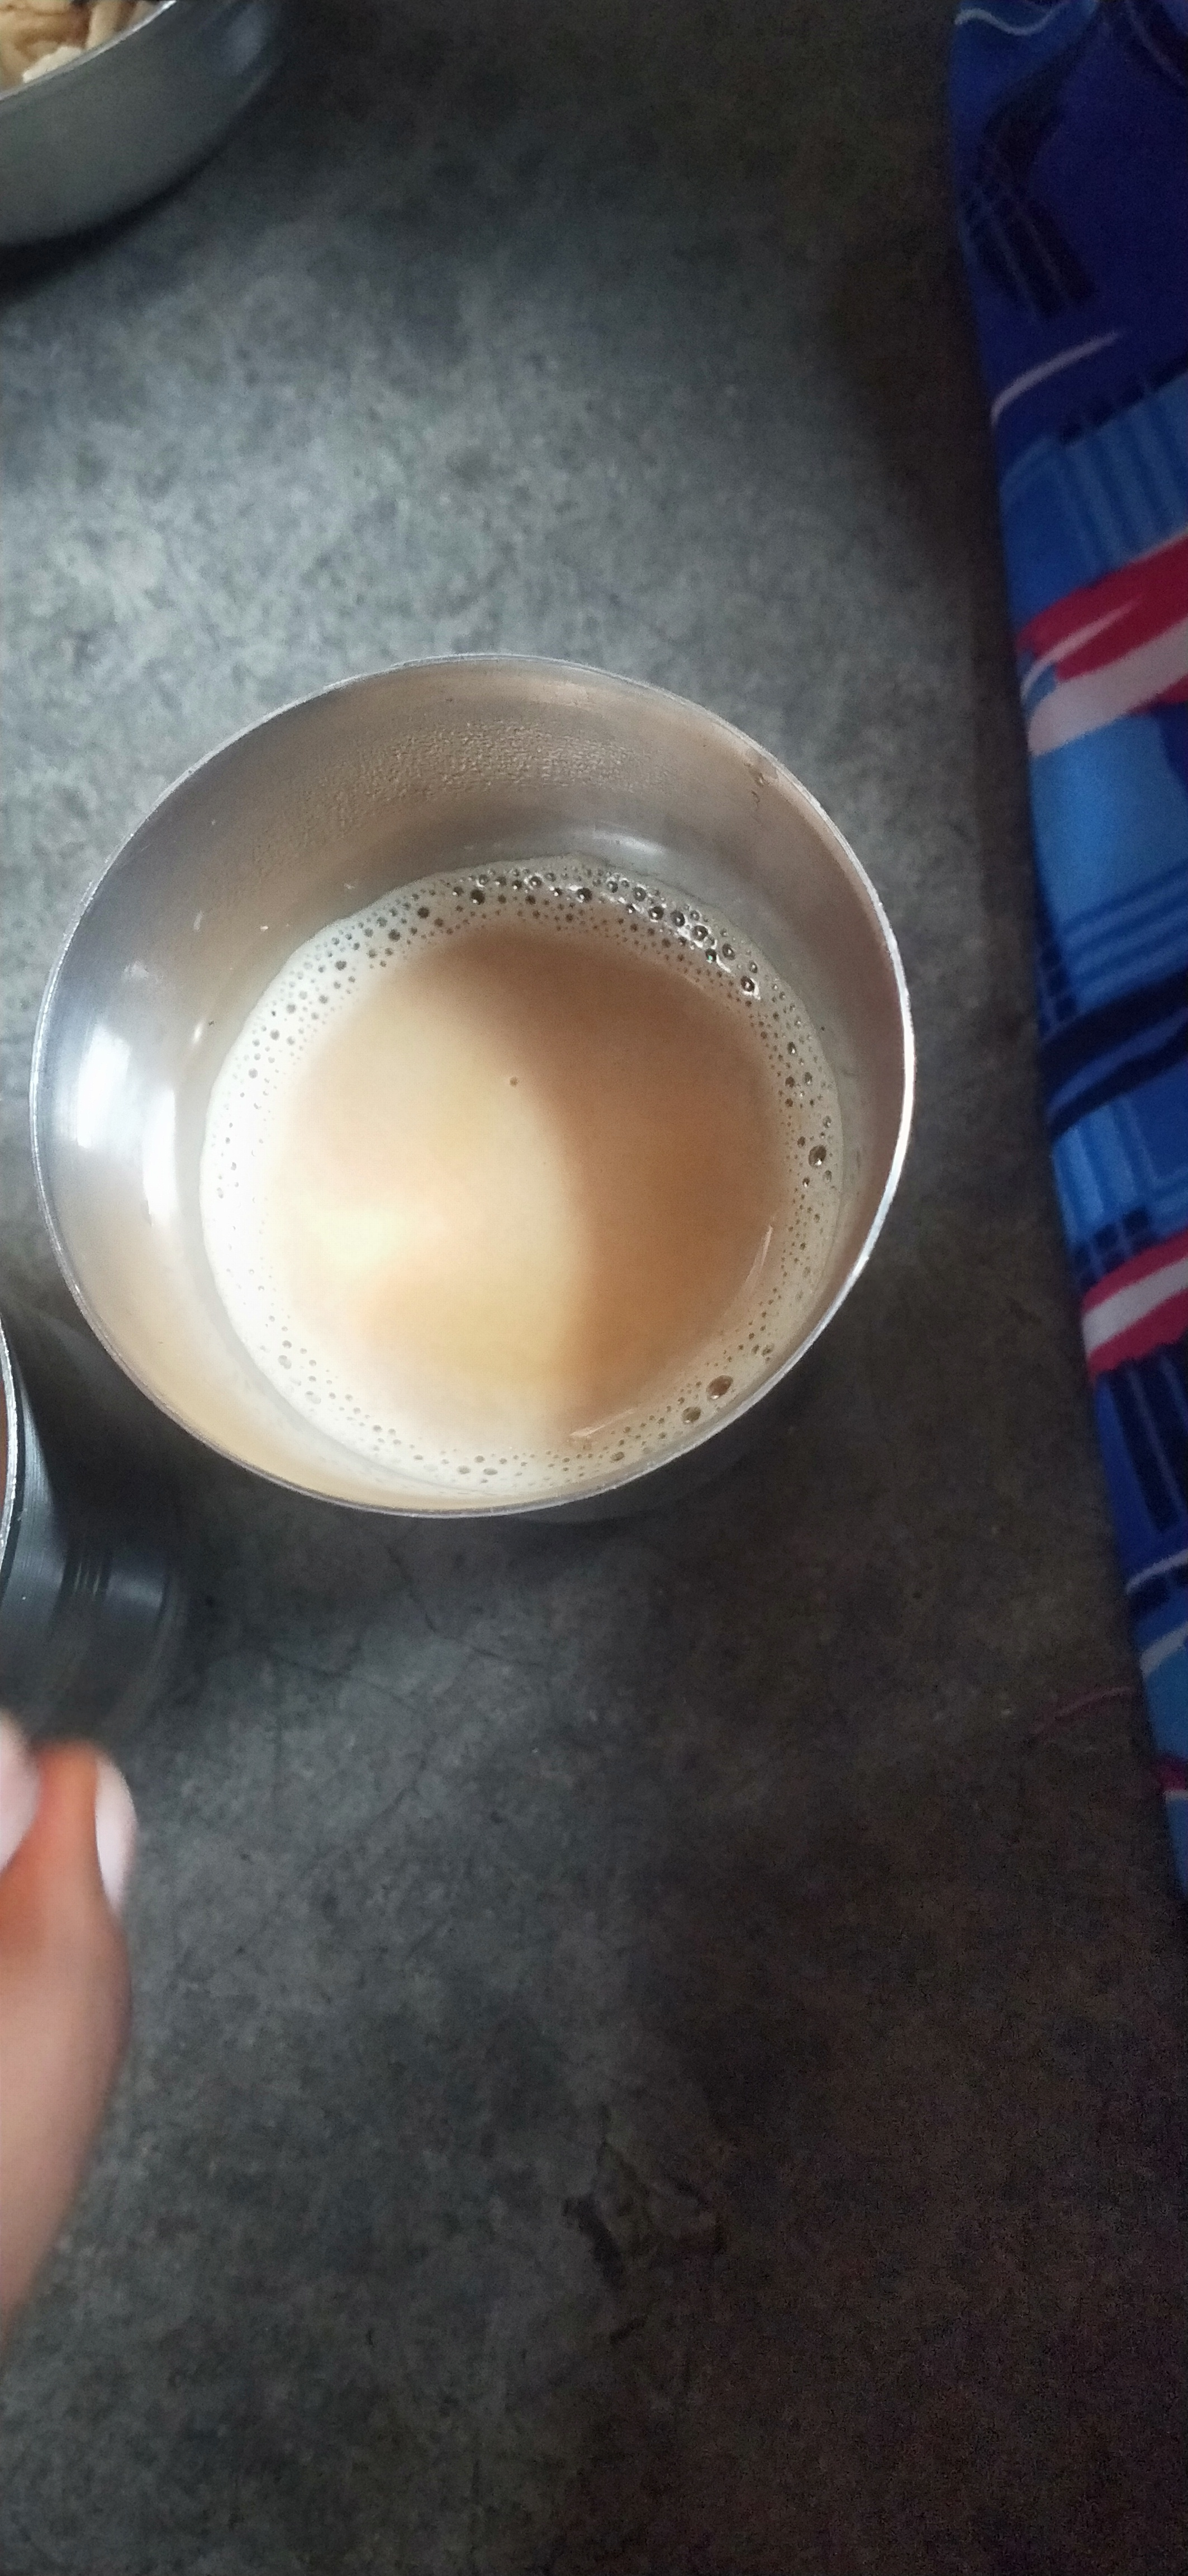food: (178, 834, 848, 1507)
